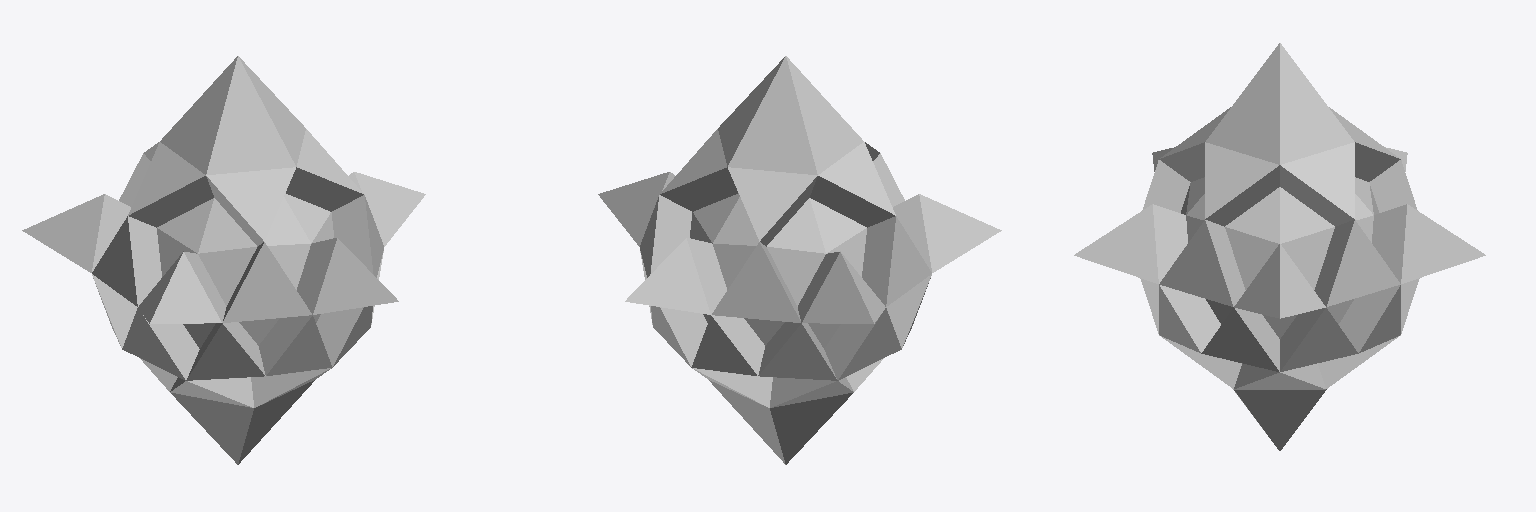
File: player.obj
The picture shows the model from 3 angles: view 1: azimuth 30°, elevation 25°; view 2: azimuth 150°, elevation 25°; view 3: azimuth 270°, elevation 25°; orthographic projection.
Visible parts, largest first — view 1: Icosphere.004; view 2: Icosphere.004; view 3: Icosphere.004.
Boxes of the visible parts, box(x1,y1,x2,y2) form: Icosphere.004: box(22, 56, 425, 464); Icosphere.004: box(598, 56, 1001, 464); Icosphere.004: box(1074, 43, 1485, 450).
Size of the model in its own units: 0.8544 by 0.9823 by 0.8984.